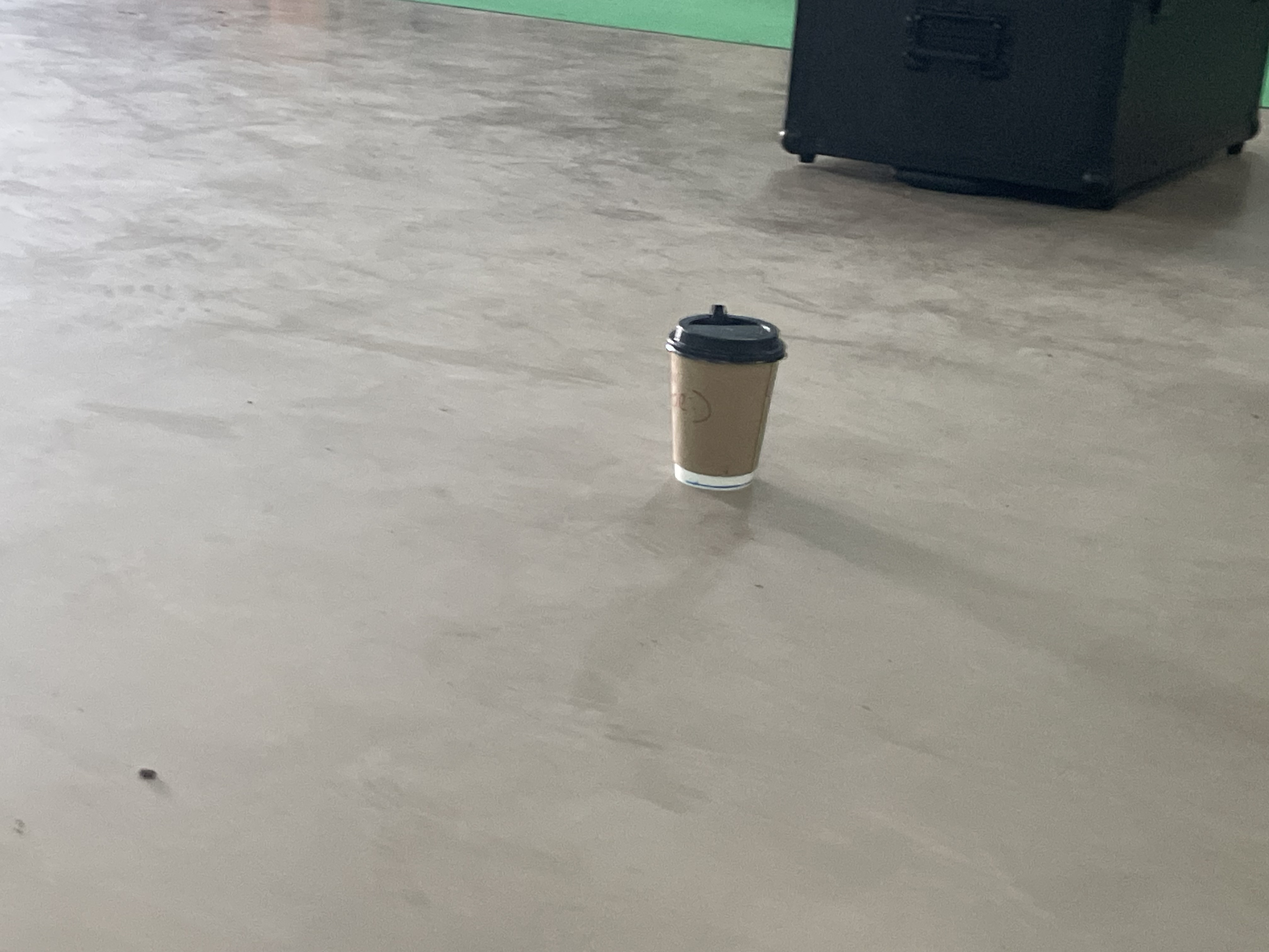cup: (665, 305, 787, 492)
